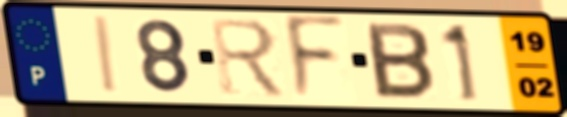1: (438, 22, 481, 103)
8: (134, 17, 195, 95)
B: (363, 20, 438, 102)
F: (282, 13, 349, 106)
I: (93, 14, 122, 96)
R: (206, 16, 291, 101)
